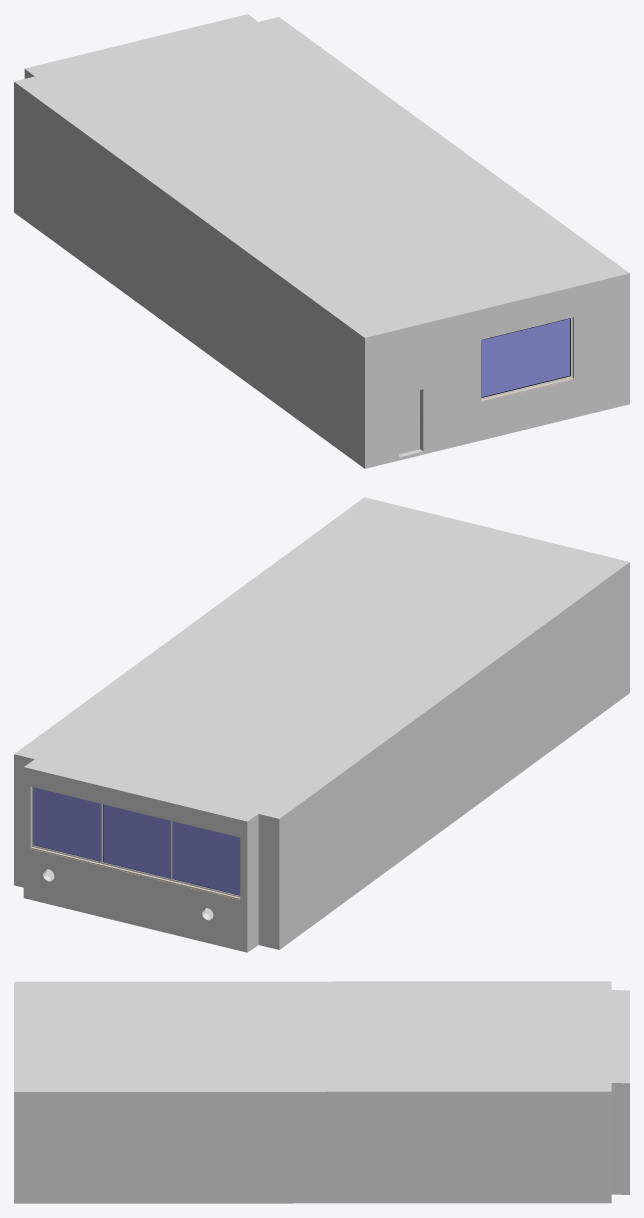
The model's file is Laboratório.fbx.
The picture shows the model from 3 angles, top to bottom: view 1: azimuth 30°, elevation 25°; view 2: azimuth 150°, elevation 25°; view 3: azimuth 270°, elevation 25°; orthographic projection. The views are drawn at different scales.
Parts seen in each view (by area): view 1: Teto, Paredes, Window.001, Piso, Panel.001, Porta; view 2: Teto, Paredes, Window, Piso; view 3: Teto, Paredes, Piso.
Part boxes in pixels (x1,y1,x2,y2): Teto: (14,14,629,340); Paredes: (14,72,629,465); Window.001: (481,317,573,401); Piso: (14,209,629,468); Panel.001: (399,390,419,453); Porta: (396,385,426,457); Teto: (14,497,629,824); Paredes: (14,565,629,949); Window: (31,787,240,899); Piso: (14,690,629,952); Teto: (14,981,629,1094); Paredes: (14,1085,629,1200); Piso: (14,1192,629,1203).
Size of the model in its own units: 891 by 420 by 2100.
